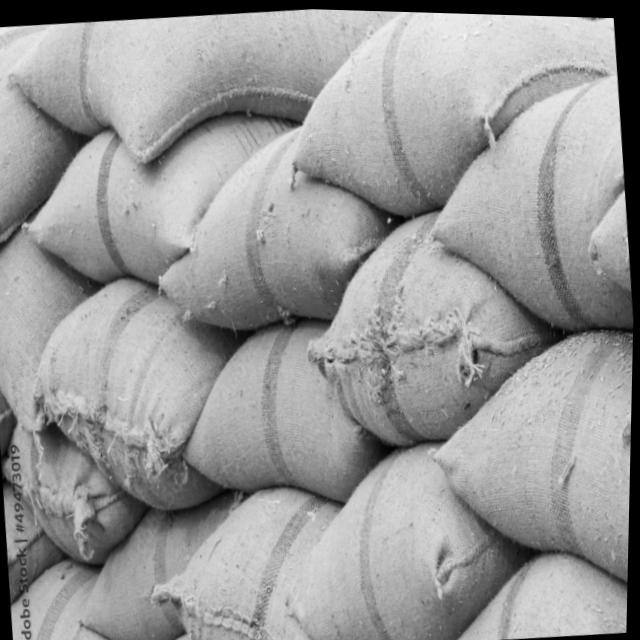sack: (276, 7, 629, 229), (1, 0, 399, 178), (295, 195, 568, 453), (416, 65, 639, 341), (427, 319, 635, 605), (11, 101, 310, 296), (22, 265, 244, 519), (146, 115, 399, 337), (272, 429, 526, 640), (171, 306, 390, 515), (144, 477, 355, 640), (70, 484, 258, 640), (0, 410, 155, 573), (0, 222, 107, 436), (454, 536, 631, 640), (10, 552, 138, 640)
